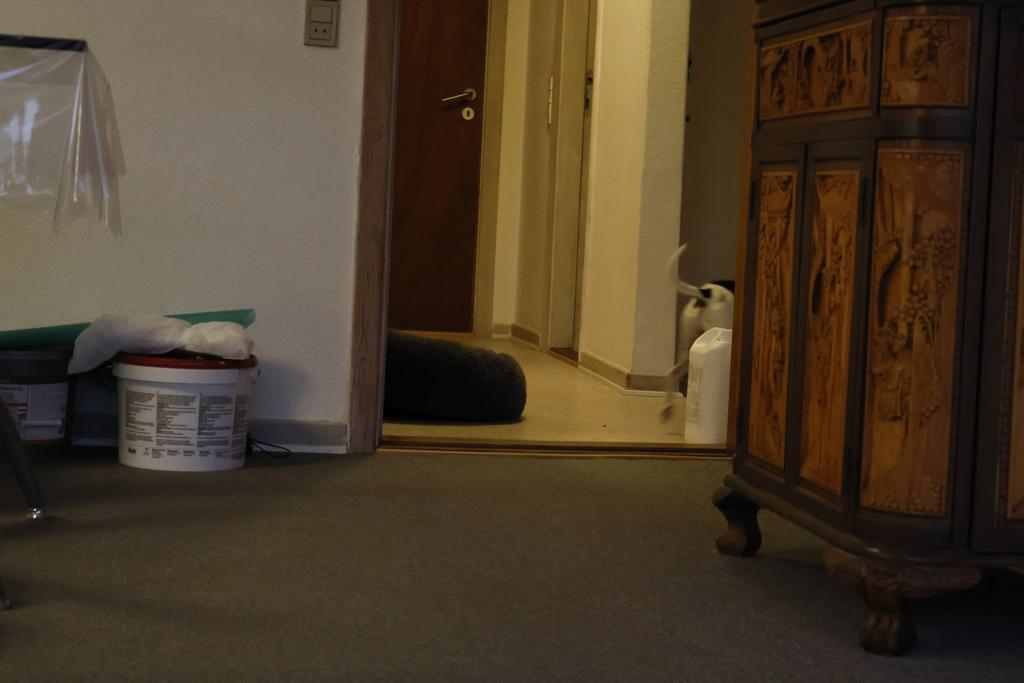Dog: (647, 234, 745, 434)
